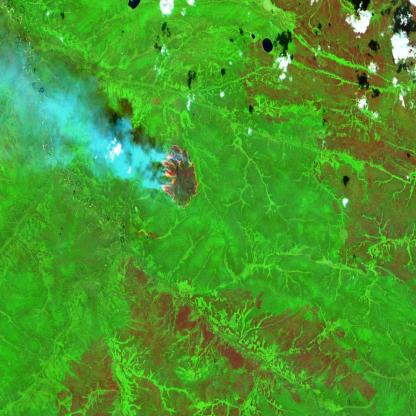fire: (159, 136, 201, 217)
